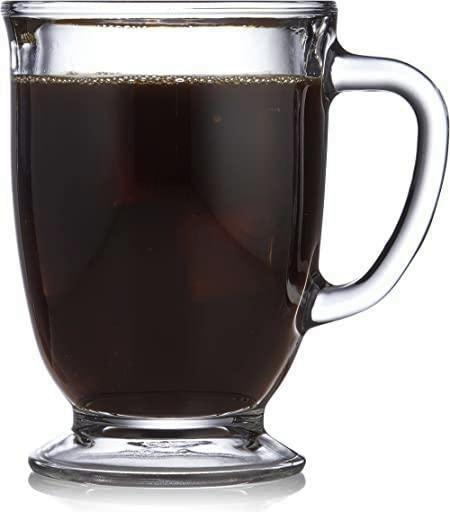glass-mug: (0, 0, 450, 487)
